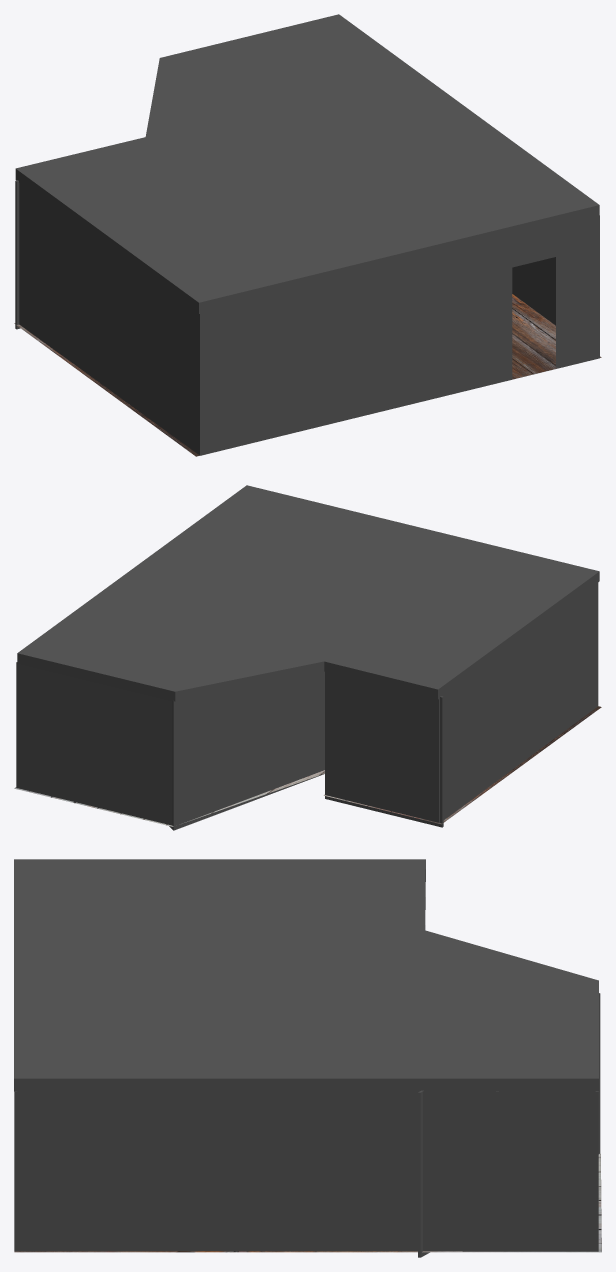
File: room-test.glb
3 views of the same model, one above another, from view 1: azimuth 30°, elevation 25°; view 2: azimuth 150°, elevation 25°; view 3: azimuth 270°, elevation 25° (orthographic). The views are drawn at different scales.
Visible parts, largest first — view 1: Cube, Plane.001, Cube.001; view 2: Cube, Cube.001, Plane.001; view 3: Cube, Plane.001, Cube.001.
Part boxes in pixels (box(x1,y1,x2,y2)): Cube: box(15, 14, 599, 455); Plane.001: box(14, 294, 601, 456); Cube.001: box(15, 180, 20, 329); Cube: box(16, 485, 599, 825); Cube.001: box(169, 671, 443, 830); Plane.001: box(14, 706, 601, 826); Cube: box(14, 859, 598, 1251); Plane.001: box(14, 1153, 601, 1252); Cube.001: box(418, 993, 600, 1257).
Size of the model in its own units: 9 by 3.34 by 10.04.
2 materials, 1 textured.
